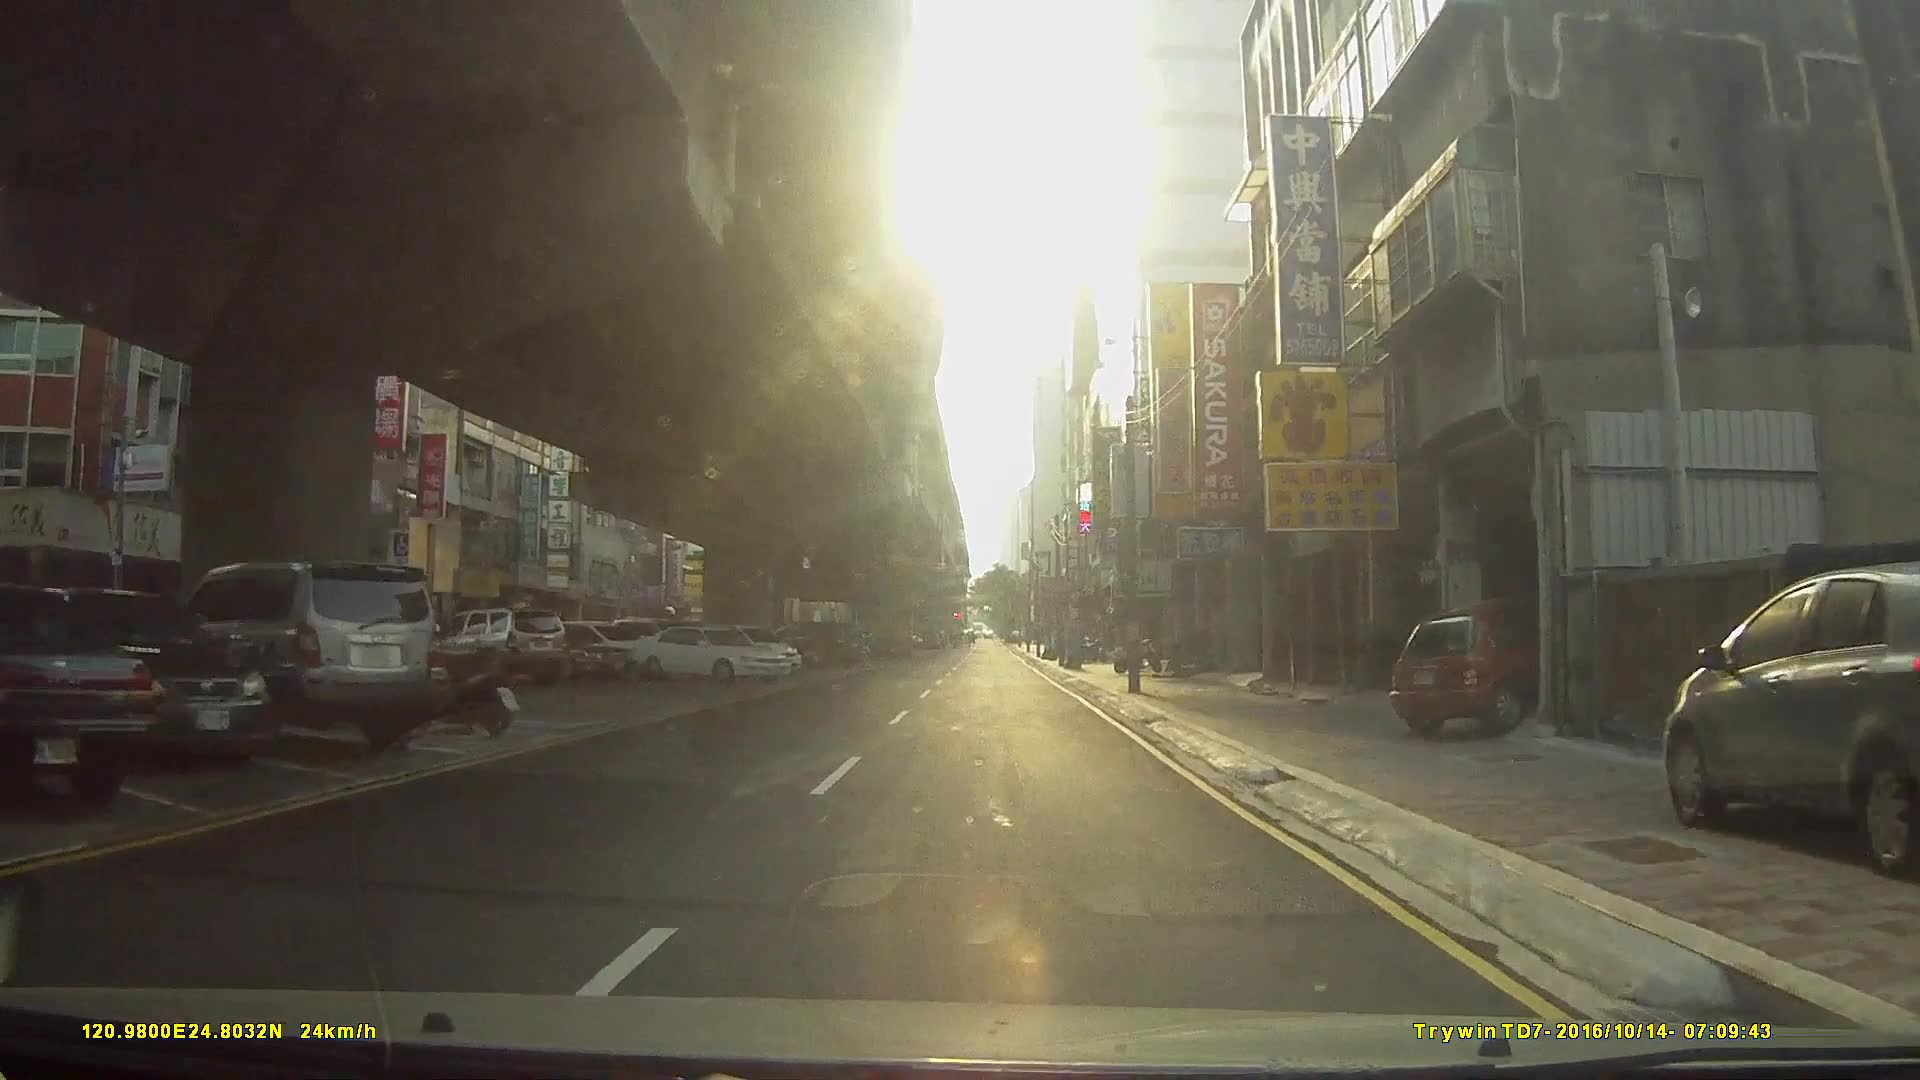vehicle: (1662, 559, 1920, 876), (141, 559, 448, 753), (0, 584, 277, 771), (0, 582, 153, 807), (1389, 597, 1572, 735), (427, 607, 568, 680), (468, 621, 630, 684), (628, 622, 793, 682)
